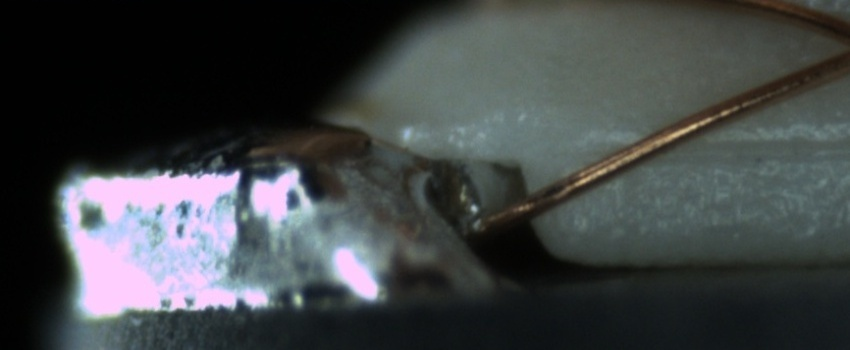CL: (829, 18, 850, 69)
DL: (608, 113, 847, 183)
